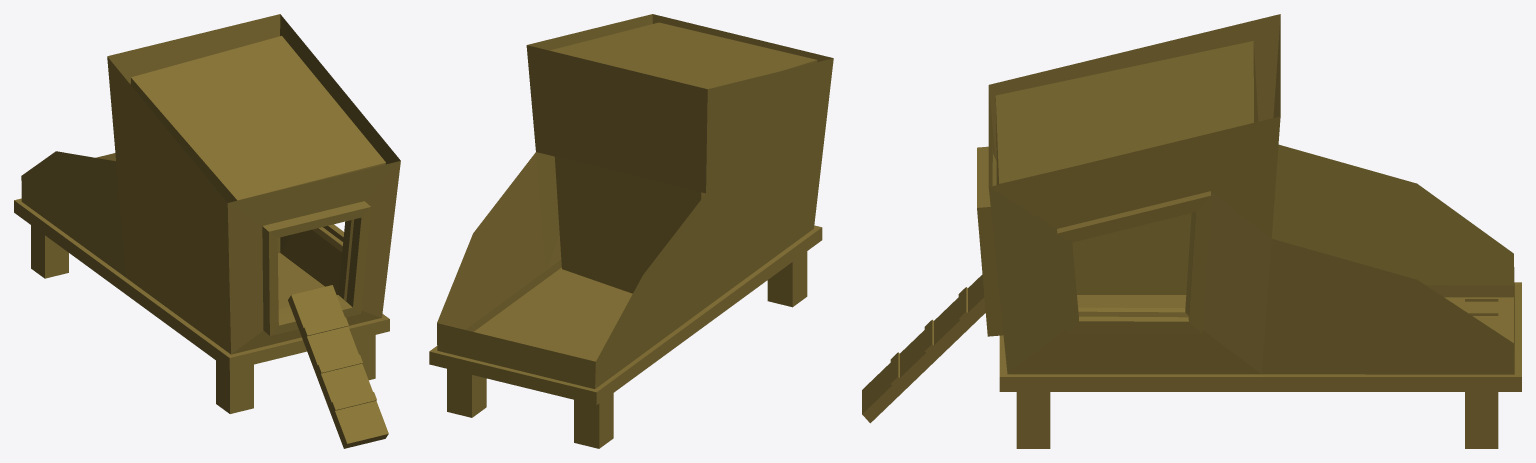
Rendered from SM_coops.fbx.
The picture shows the model from 3 angles, left to right: view 1: azimuth 30°, elevation 25°; view 2: azimuth 150°, elevation 25°; view 3: azimuth 270°, elevation 25°; orthographic projection. The views are drawn at different scales.
Visible parts, largest first — view 1: coop.002, coop_inside.002; view 2: coop.002, coop_inside.002; view 3: coop.002, coop_inside.002.
Boxes of the visible parts, box(x1,y1,x2,y2) form: coop.002: box(14, 14, 400, 448); coop_inside.002: box(130, 36, 385, 317); coop.002: box(429, 14, 833, 448); coop_inside.002: box(550, 22, 817, 293); coop.002: box(862, 14, 1521, 448); coop_inside.002: box(993, 41, 1258, 317).
Bounding box in the file's own units: 98.71 × 152 × 263.
